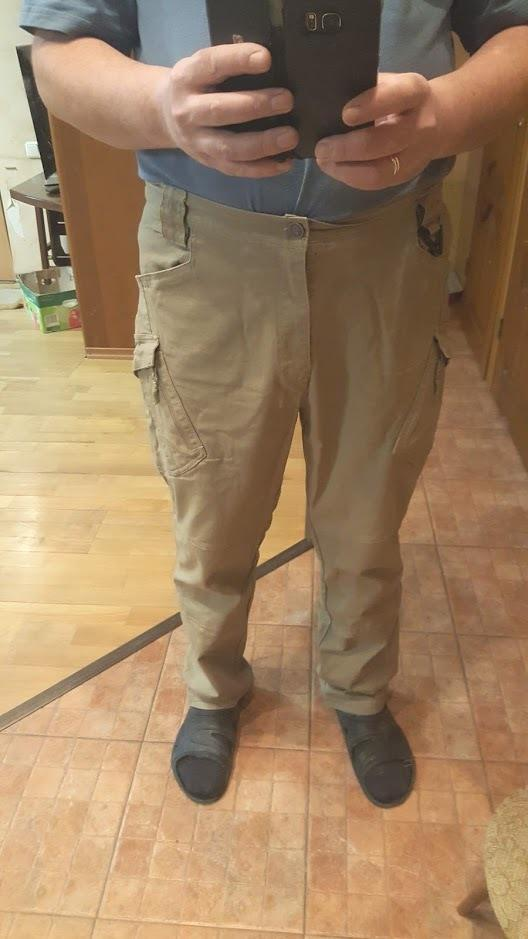pants: (133, 180, 444, 717)
